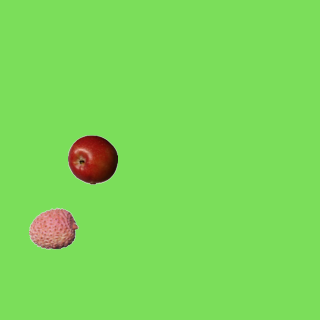Apple Braeburn: (67, 134, 117, 184)
Lychee: (28, 203, 78, 253)
